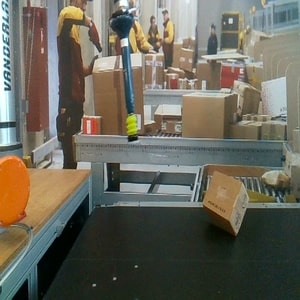box: (201, 170, 251, 237)
